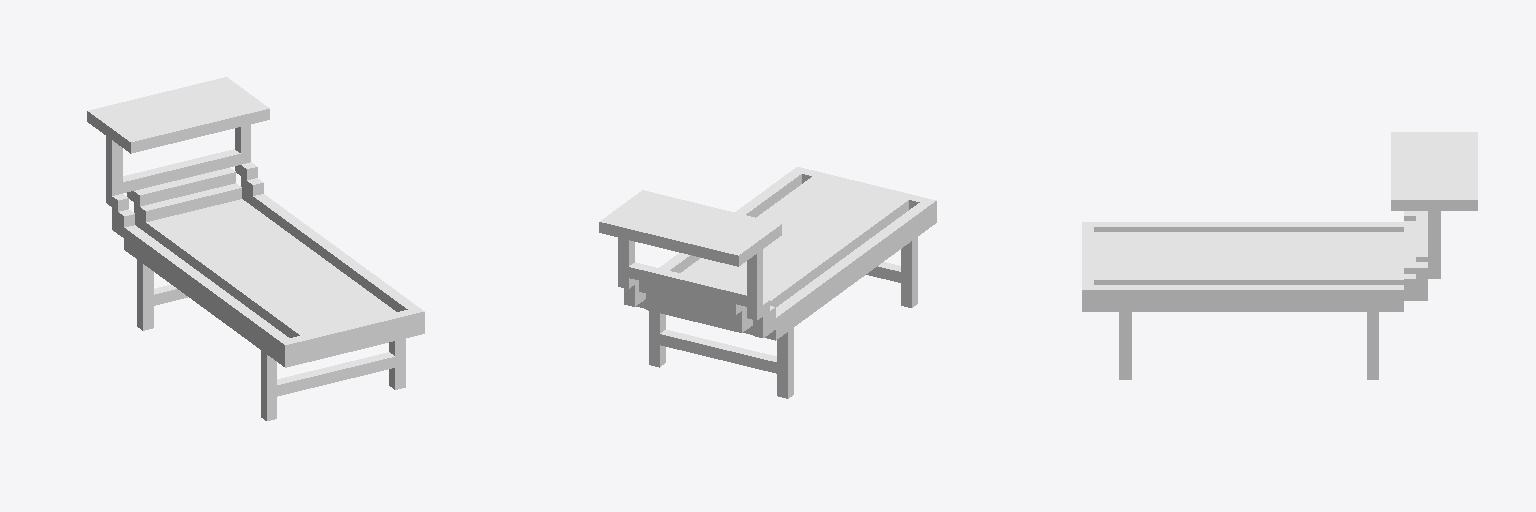
Rendered from BeachBed.obj.
3 renders of one model, left to right at view 1: azimuth 30°, elevation 25°; view 2: azimuth 150°, elevation 25°; view 3: azimuth 270°, elevation 25°, orthographic.
Parts seen in each view (by area): view 1: object 1; view 2: object 1; view 3: object 1.
Boxes of the visible parts, box(x1,y1,x2,y2) form: object 1: box(87, 77, 424, 420); object 1: box(599, 167, 936, 398); object 1: box(1082, 132, 1477, 379).
Size of the model in its own units: 1.3 by 1.6 by 3.2.